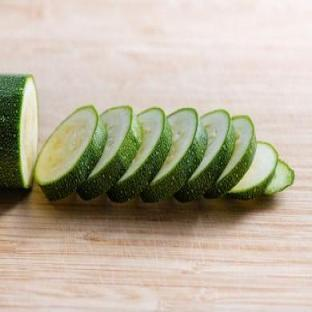Zucchini: (35, 106, 106, 200), (141, 108, 207, 201), (108, 107, 171, 201), (78, 106, 141, 200), (176, 110, 235, 201), (0, 75, 38, 188), (205, 117, 256, 197), (228, 142, 278, 199), (264, 160, 294, 195)
